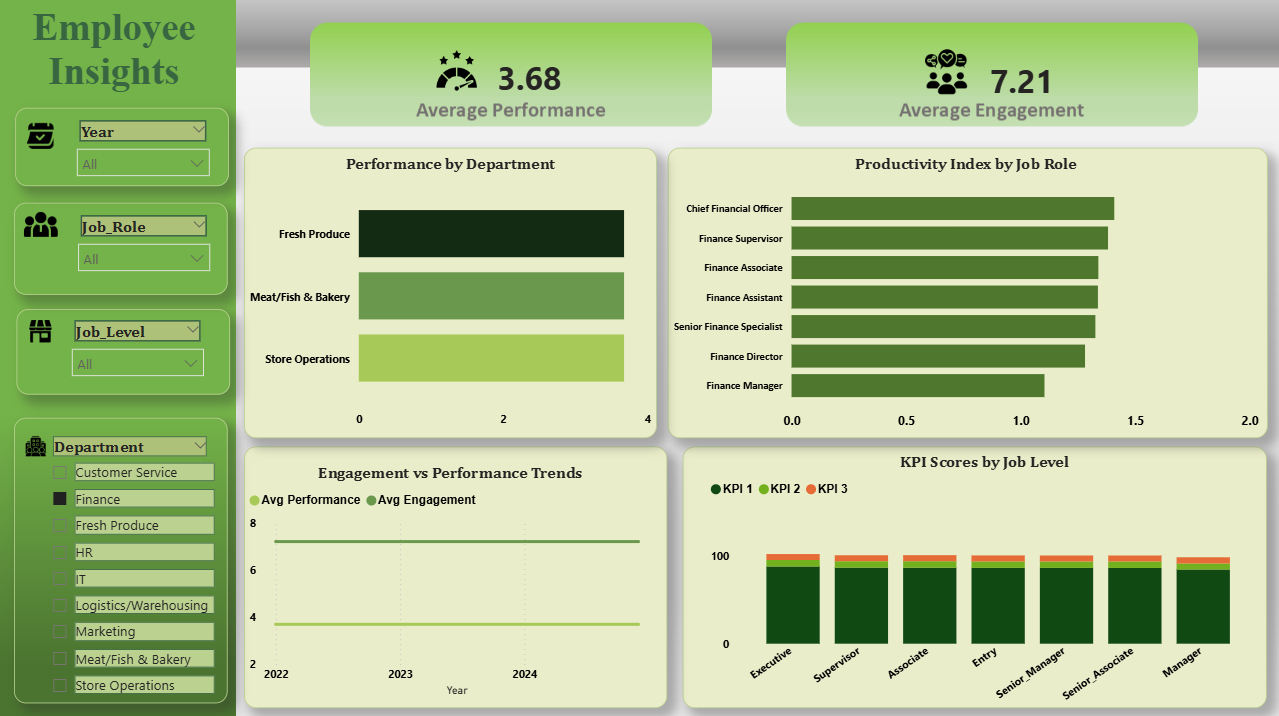

Layout of this report page (visuals, bound fields, positions):
{"tool":"powerbi","page":{"name":"Employee Insights","canvas":[1280,720],"ordinal":1},"visuals":[{"type":"shape","box":[684.1,447.6,583.9,261.8],"z":1000},{"type":"shape","box":[244.9,447.6,423.5,261.8],"z":2000},{"type":"shape","box":[668.4,148.4,599.6,290.8],"z":3000},{"type":"shape","box":[244.9,148.4,412.6,290.8],"z":4000},{"type":"shape","box":[14.5,418.6,213.5,285.9],"z":5000},{"type":"shape","box":[14.5,203.9,213.5,91.7],"z":6000},{"type":"shape","box":[15.7,108.6,213.5,78.4],"z":7000},{"type":"slicer","fields":{"Values":["business_outcomes.Year_Month"]},"box":[67.6,115.8,153.2,71.2],"z":8000},{"type":"slicer","fields":{"Values":["employees.Job_Role"]},"box":[68.8,211.1,152,73.6],"z":9000},{"type":"slicer","fields":{"Values":["employees.Department"]},"box":[41,431.9,179.8,275.1],"z":10000},{"type":"image","box":[16.9,114.6,45.8,42.2],"z":15000},{"type":"image","box":[14.5,316.1,53.1,32.6],"z":16000},{"type":"image","box":[16.9,430.7,38.6,32.6],"z":17000},{"type":"textbox","title":"Employee Insights","box":[7.2,6,214.7,92.9],"z":18000},{"type":"image","box":[14.5,202.7,53.1,45.8],"z":21000},{"type":"shape","box":[16.9,310.1,213.5,85.7],"z":25000},{"type":"slicer","fields":{"Values":["employees.Job_Level"]},"box":[62.7,316.1,152,73.6],"z":26000},{"type":"clusteredBarChart","title":"Performance by Department","fields":{"Category":["business_outcomes.Department"],"Y":["Data_Dictionary.Avg Performance"]},"box":[244.9,154.4,412.6,282.3],"z":27000},{"type":"barChart","title":"Productivity Index by Job Role","fields":{"Y":["Avg(role_kpis.Productivity_Index)"],"Category":["employees.Job_Role"]},"box":[668.4,154.4,596,284.7],"z":28000},{"type":"lineChart","title":"Engagement vs Performance Trends","fields":{"Y":["Data_Dictionary.Avg Performance","Data_Dictionary.Avg Engagement"],"Category":["business_outcomes.Year_Month.Variation.Date Hierarchy.Year","business_outcomes.Year_Month.Variation.Date Hierarchy.Quarter","business_outcomes.Year_Month.Variation.Date Hierarchy.Month","business_outcomes.Year_Month.Variation.Date Hierarchy.Day"]},"box":[244.9,463.3,412.6,238.9],"z":29000},{"type":"columnChart","title":"KPI Scores by Job Level","fields":{"Category":["employees.Job_Level"],"Y":["Avg(role_kpis.Kpi_1_Value)","Avg(role_kpis.Kpi_2_Value)","Avg(role_kpis.Kpi_3_Value)"]},"box":[705.8,452.4,558.6,259.4],"z":30000},{"type":"card","fields":{"Values":["Data_Dictionary.Avg Performance"]},"box":[479,61.5,103.8,36.2],"z":30001},{"type":"image","box":[916.9,42.2,59.1,59.1],"z":30002},{"type":"image","box":[422.3,44.6,70,53.1],"z":30003},{"type":"card","fields":{"Values":["Data_Dictionary.Avg Engagement"]},"box":[968.8,61.5,108.6,41],"z":30004}]}

Visuals, with their boxes in screenshot pixels (x1, y1, x2, y2), scaled from the page's 1280x720 canvas onto the 1279x716 screenshot:
shape: 684:445:1267:705
shape: 245:445:668:705
shape: 668:148:1267:437
shape: 245:148:657:437
shape: 14:416:228:701
shape: 14:203:228:294
shape: 16:108:229:186
slicer - business_outcomes.Year_Month: 68:115:221:186
slicer - employees.Job_Role: 69:210:221:283
slicer - employees.Department: 41:430:221:703
image: 17:114:63:156
image: 14:314:68:347
image: 17:428:55:461
"Employee Insights" textbox: 7:6:222:98
image: 14:202:68:247
shape: 17:308:230:394
slicer - employees.Job_Level: 63:314:215:388
"Performance by Department" clusteredBarChart: 245:154:657:434
"Productivity Index by Job Role" barChart: 668:154:1263:437
"Engagement vs Performance Trends" lineChart: 245:461:657:698
"KPI Scores by Job Level" columnChart: 705:450:1263:708
card - Data_Dictionary.Avg Performance: 479:61:582:97
image: 916:42:975:101
image: 422:44:492:97
card - Data_Dictionary.Avg Engagement: 968:61:1077:102
